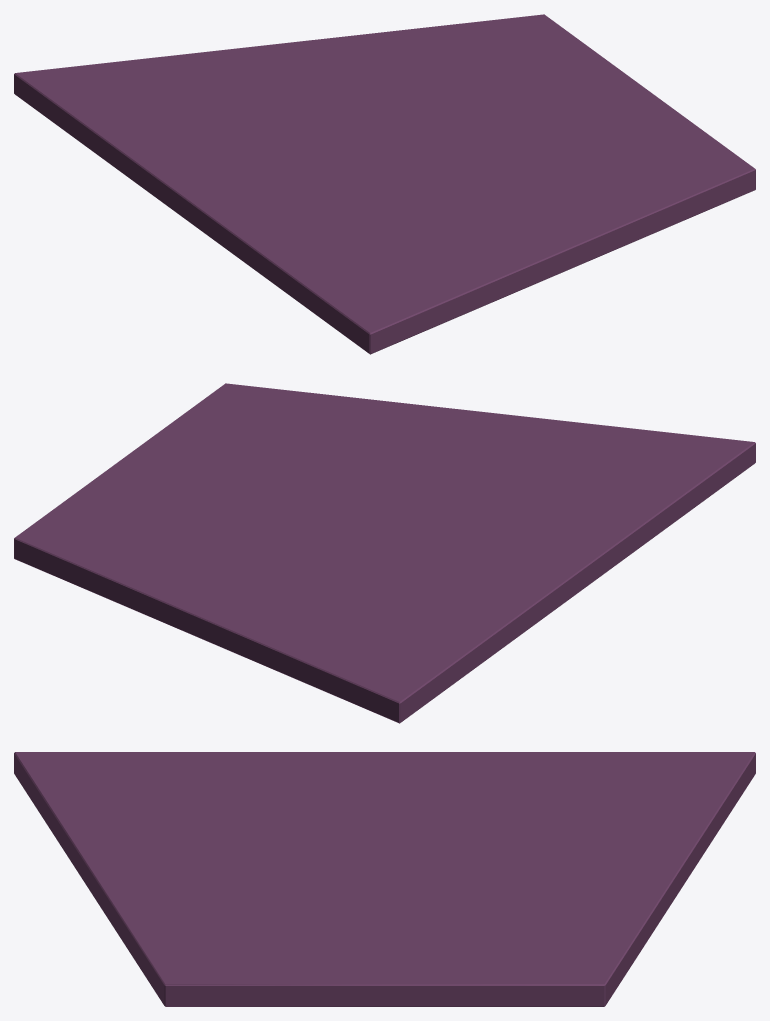
The model's file is Platform_Form_B.fbx.
The picture shows the model from 3 angles, top to bottom: view 1: azimuth 30°, elevation 25°; view 2: azimuth 150°, elevation 25°; view 3: azimuth 270°, elevation 25°; orthographic projection. The views are drawn at different scales.
Visible parts, largest first — view 1: Platform_Form_B; view 2: Platform_Form_B; view 3: Platform_Form_B.
Part boxes in pixels (x1,y1,x2,y2): Platform_Form_B: (14,14,755,354); Platform_Form_B: (14,383,755,723); Platform_Form_B: (14,752,755,1006).
Bounding box in the file's own units: 17.8 × 0.7988 × 23.94.
